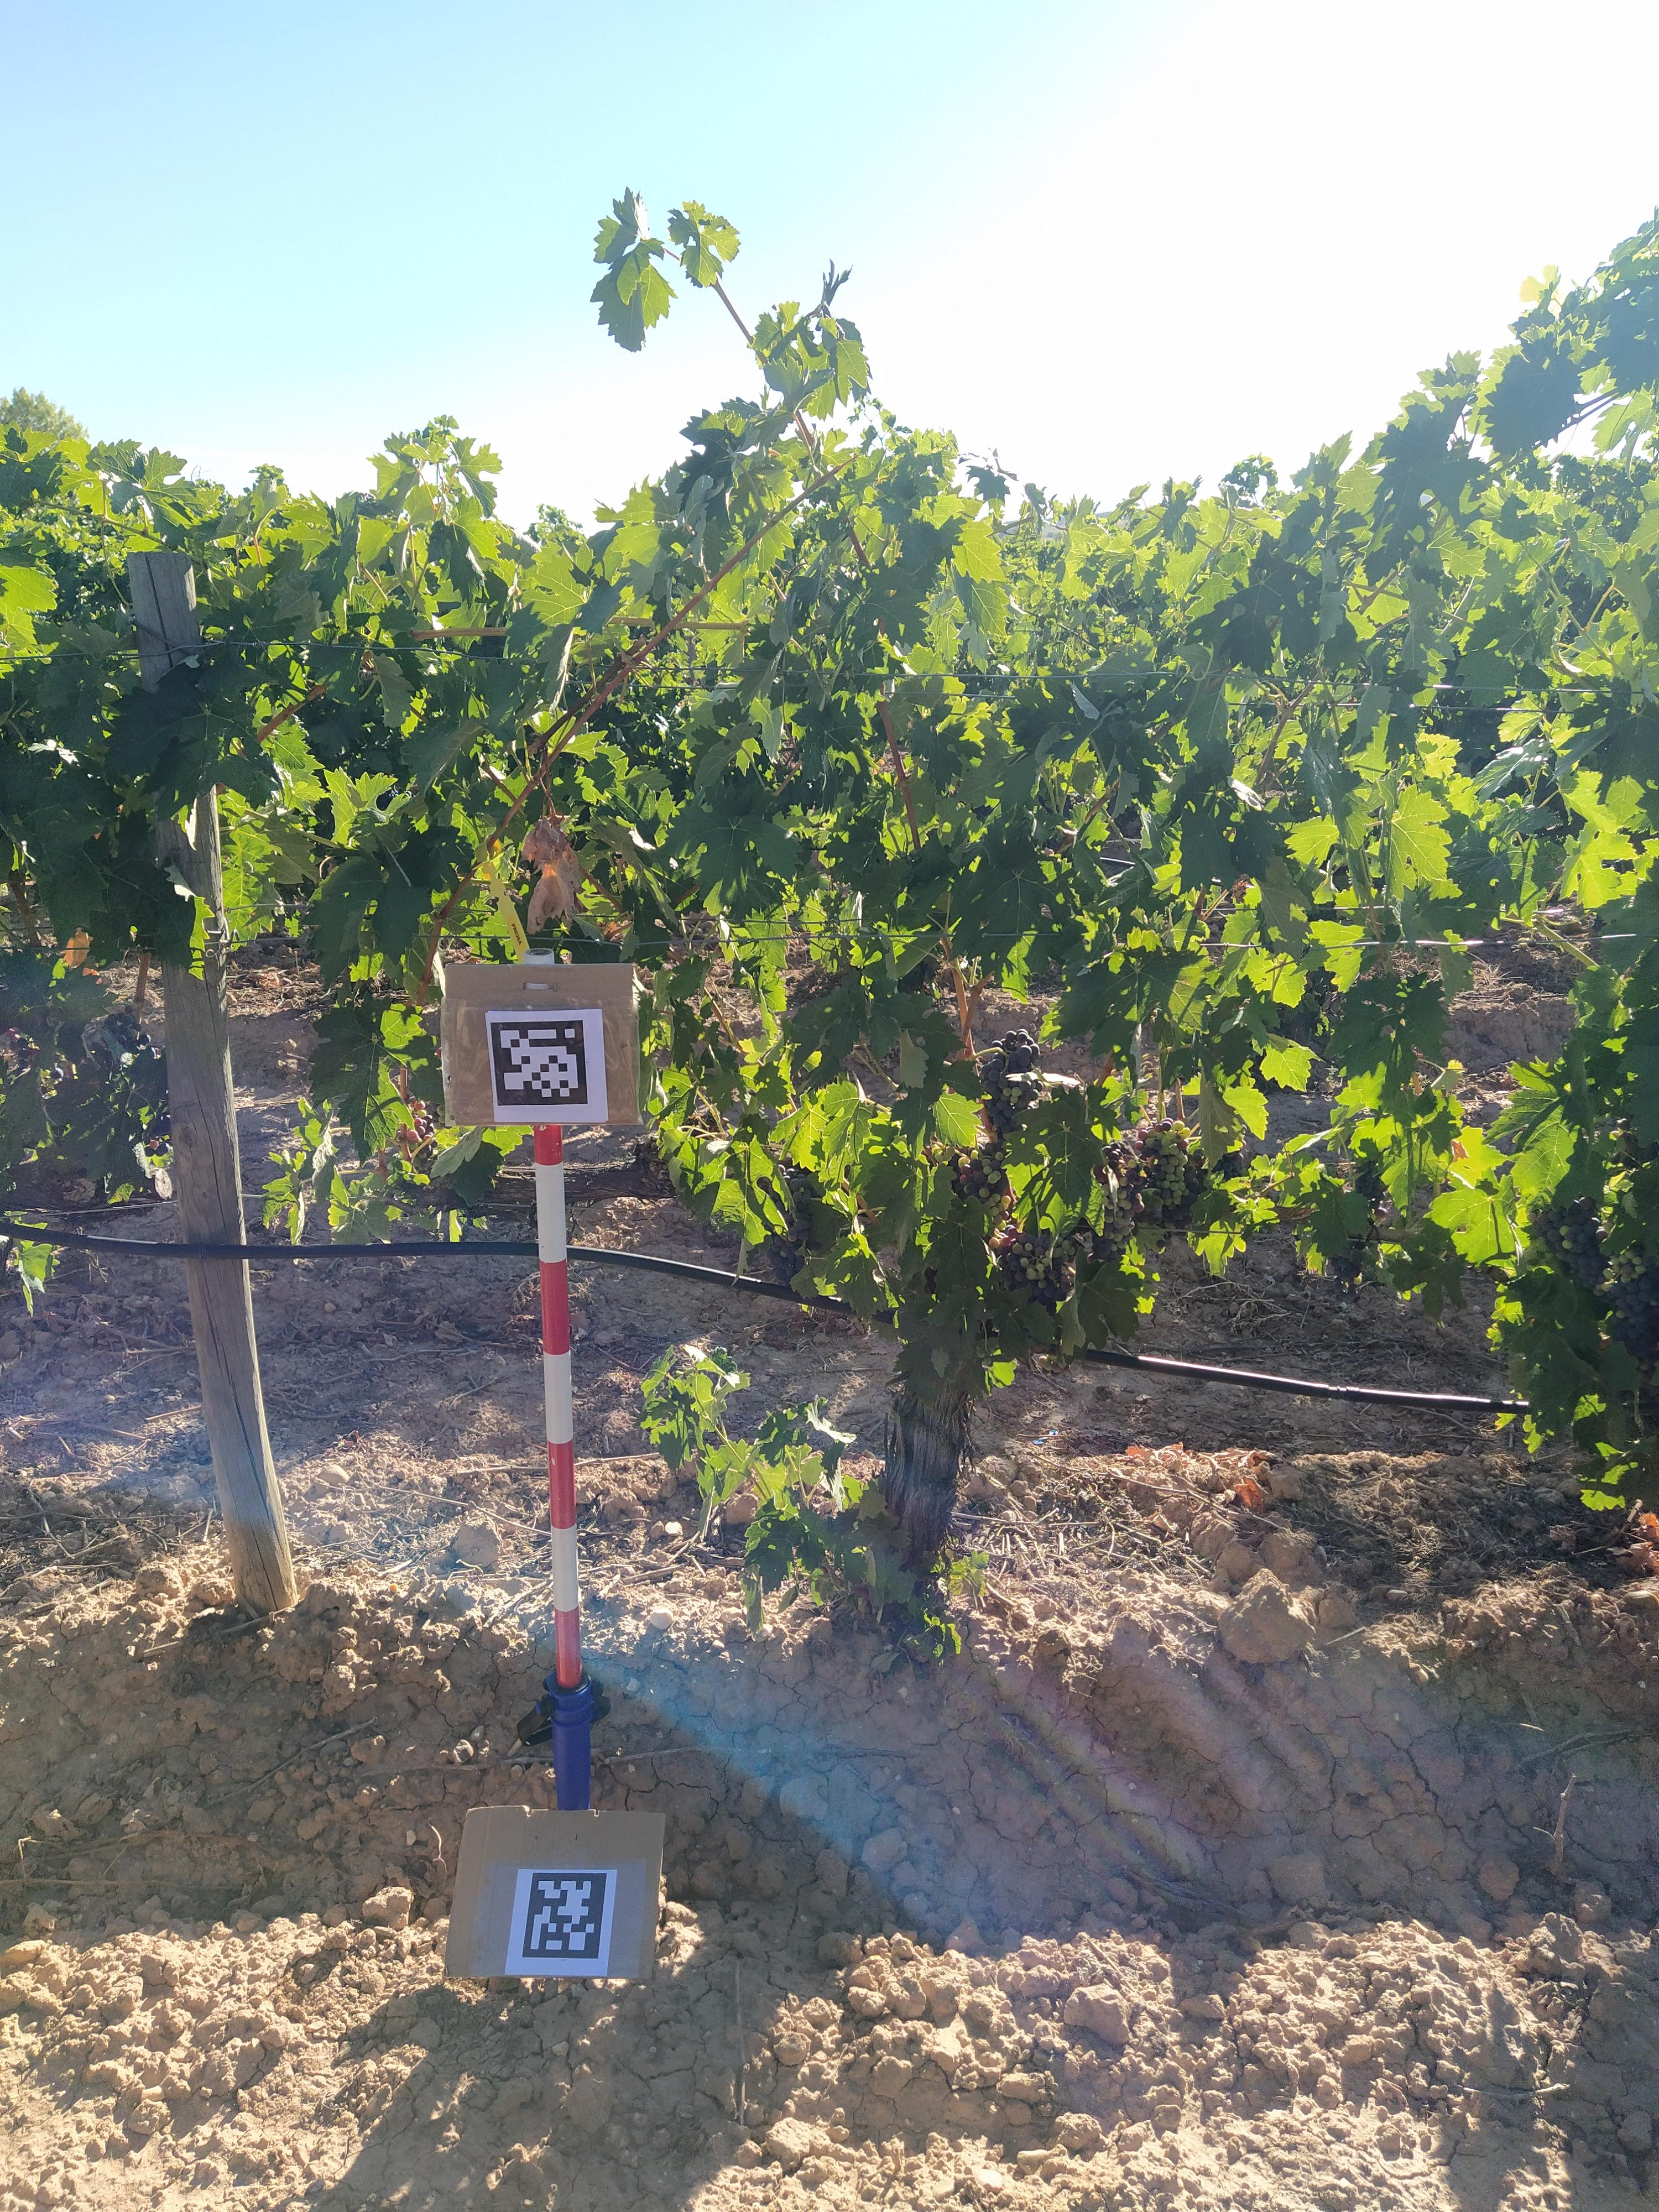QR: (486, 1017, 587, 1111), (519, 1871, 612, 1961)
